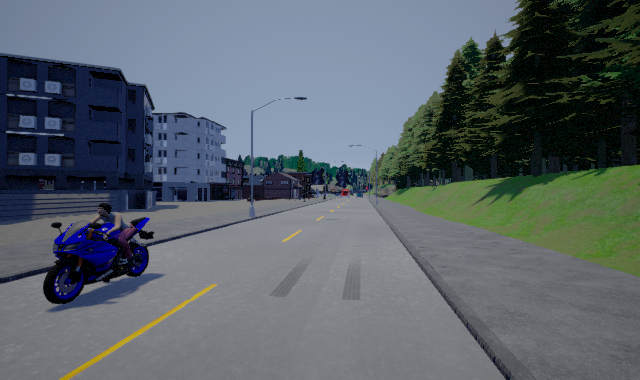motobike: (43, 201, 158, 304)
